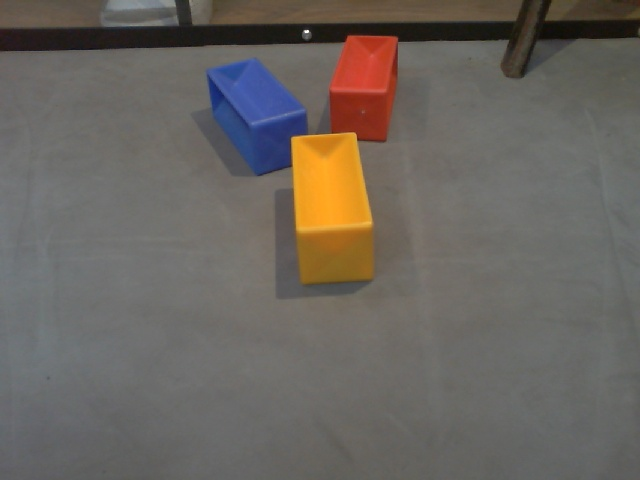BlueSample: (203, 54, 309, 175)
RedSample: (326, 32, 400, 144)
YellowSample: (286, 128, 382, 293)
